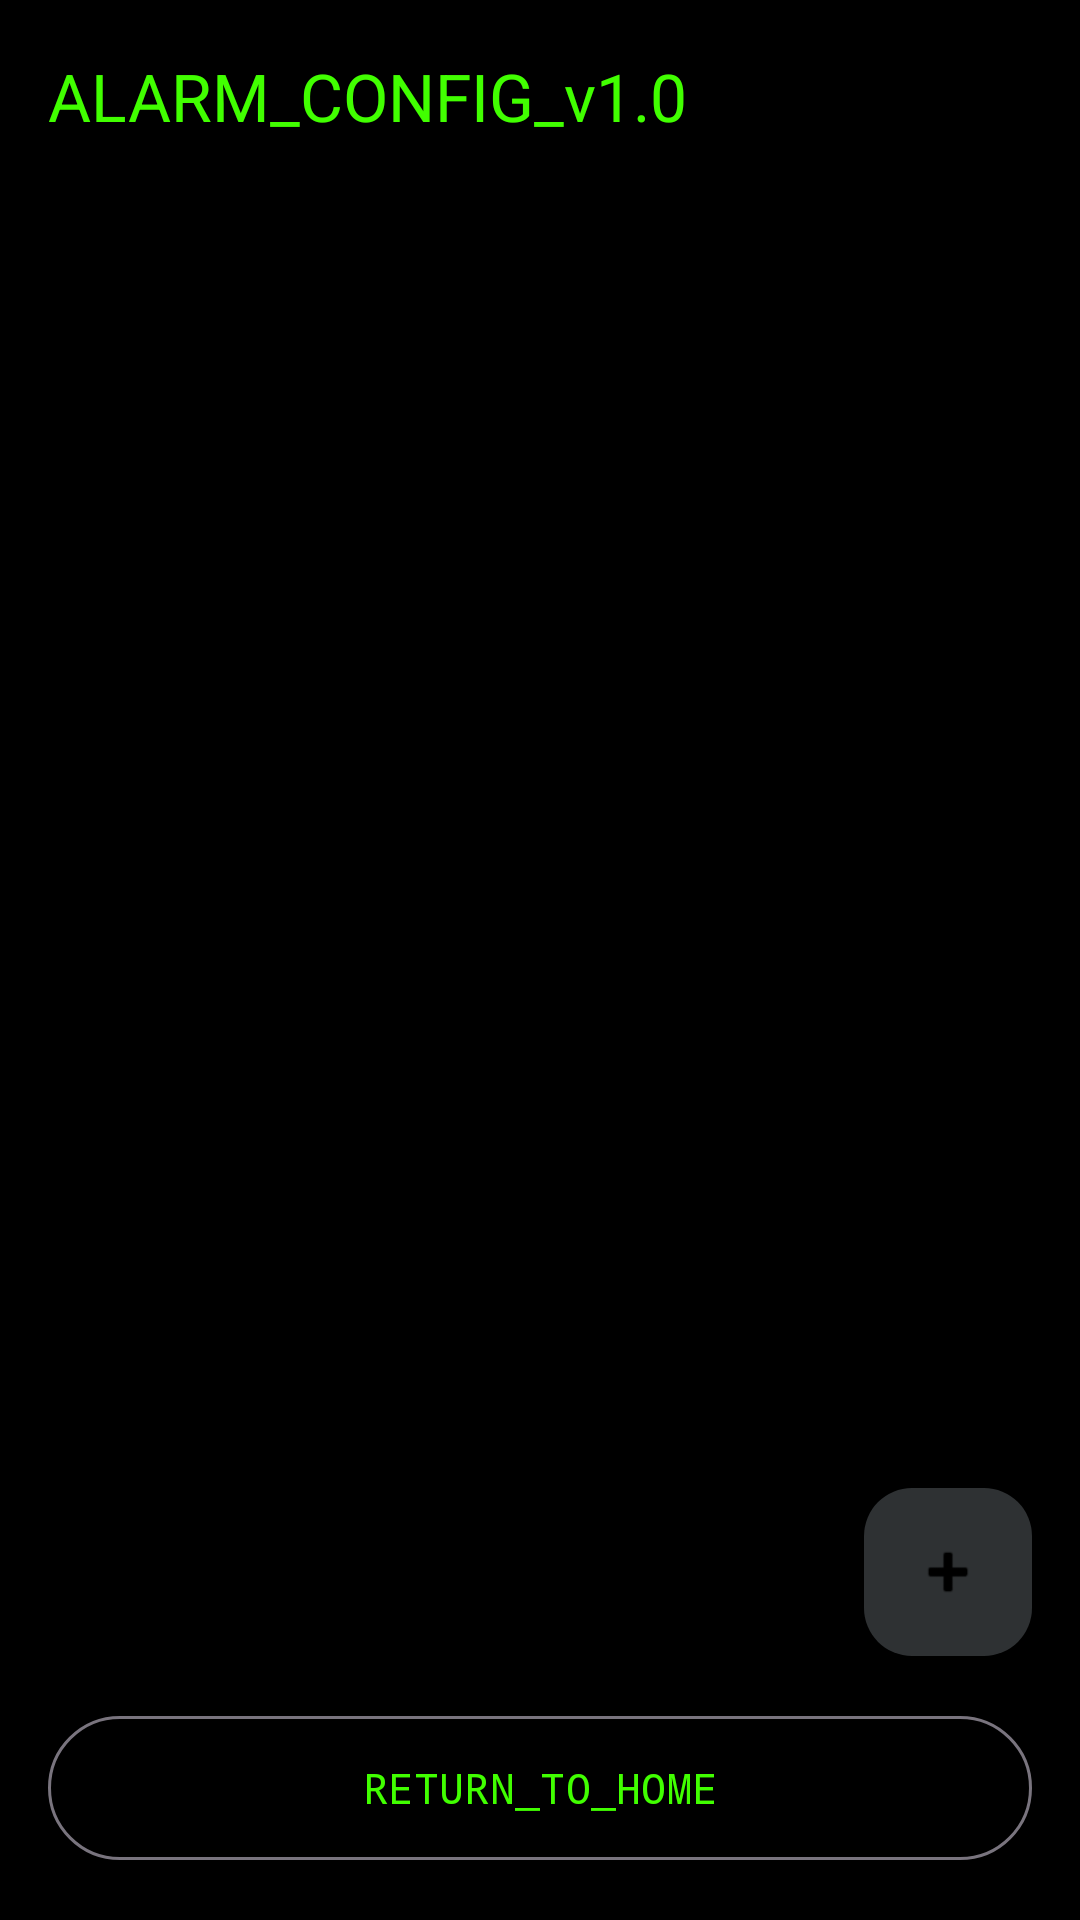

Point at icon controls on the screen. Image size 1080x1920, points as (x,y).
add: (948,1572)
